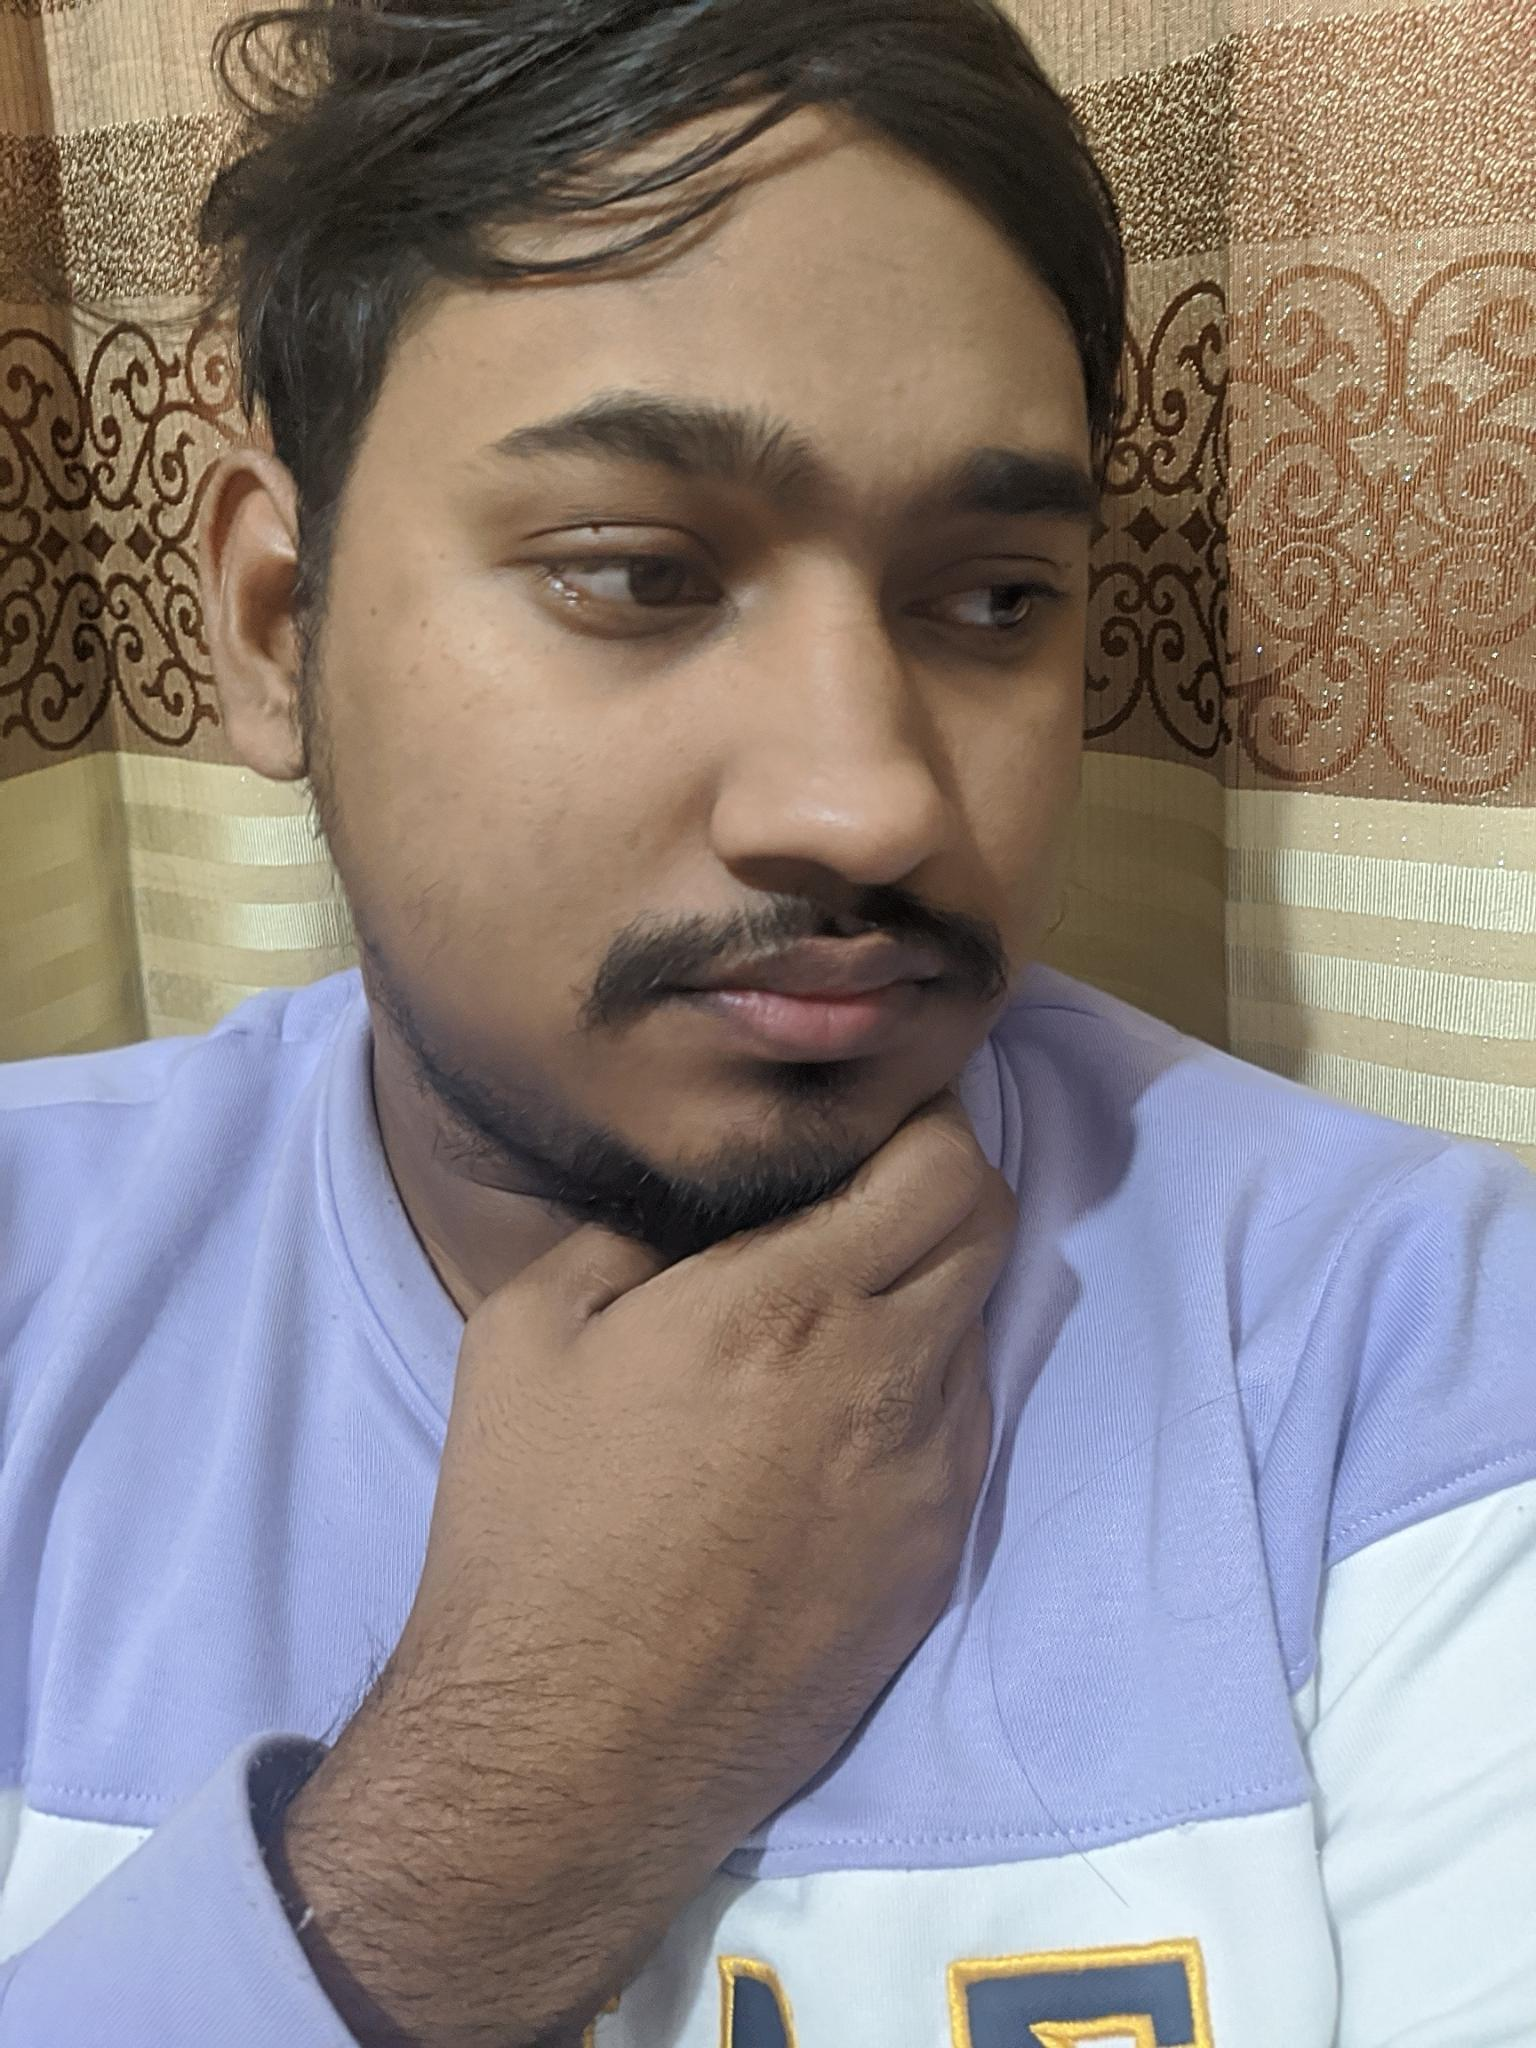Neutral: (389, 303, 1152, 1155)
